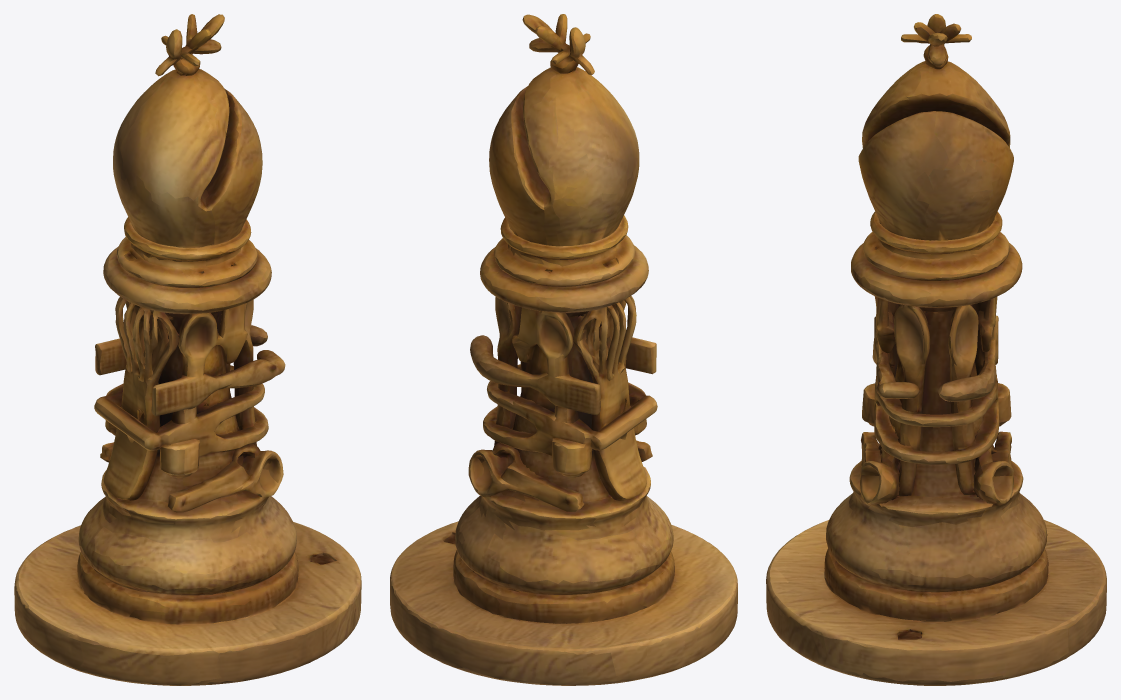
3 views of the same model, side by side, from view 1: azimuth 30°, elevation 25°; view 2: azimuth 150°, elevation 25°; view 3: azimuth 270°, elevation 25° (orthographic).
Parts seen in each view (by area): view 1: world; view 2: world; view 3: world.
Boxes of the visible parts, x1,y1,x2,y2 form: world: (14,14,361,685); world: (390,14,737,685); world: (766,14,1106,685).
Bounding box in the file's own units: 0.3197 × 0.6 × 0.31.
1 material, 1 textured.
